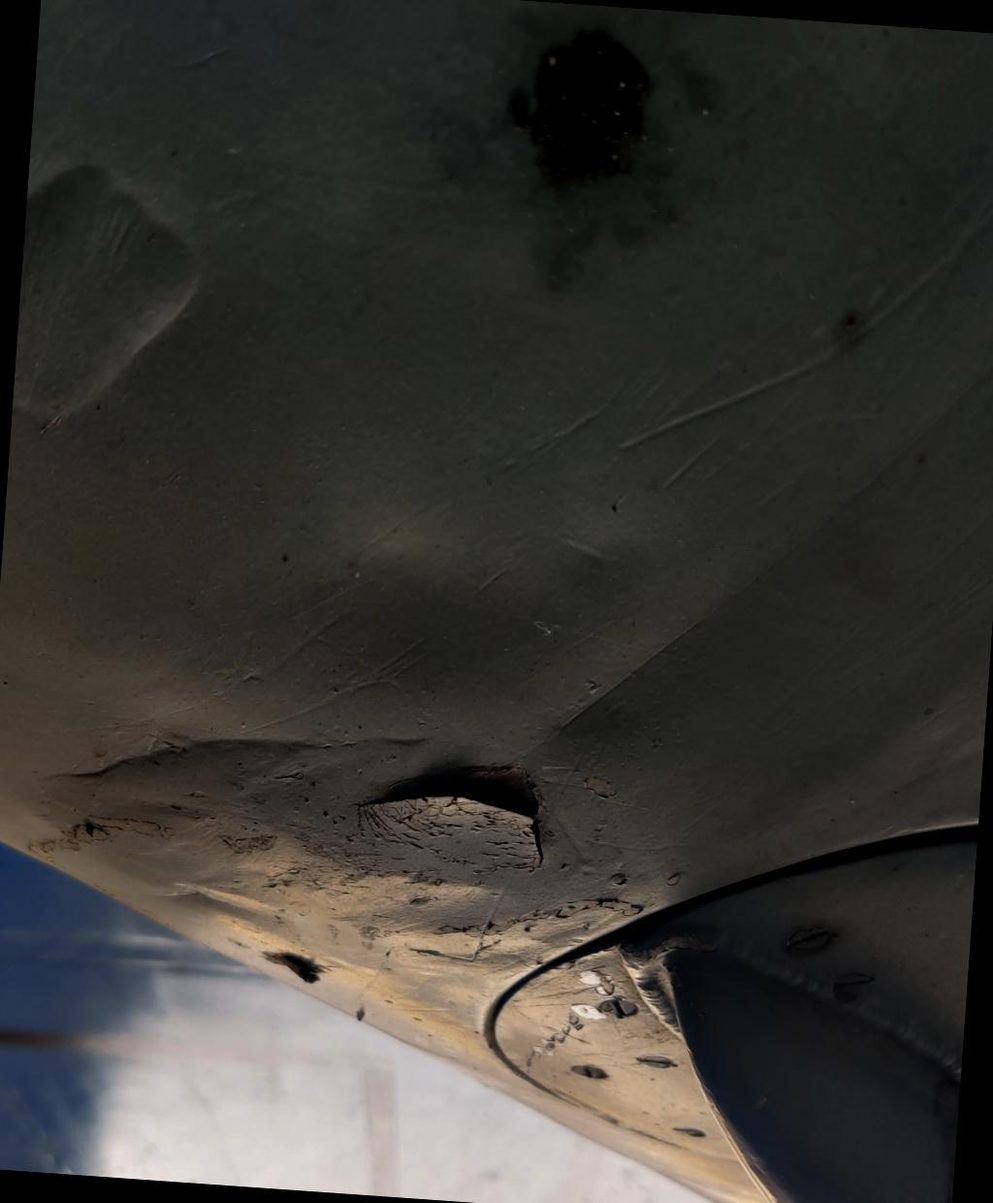crack: (323, 727, 585, 929)
dent: (281, 471, 559, 746)
